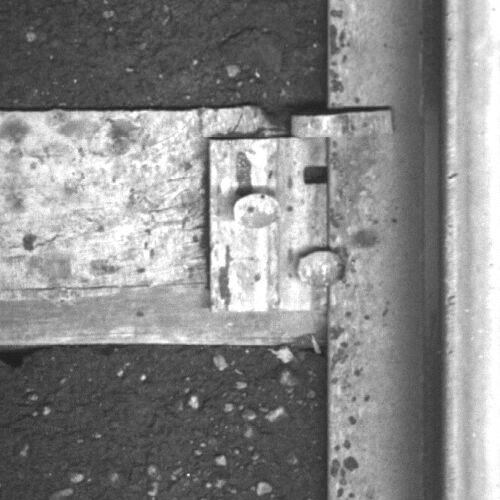crutch: (291, 105, 397, 138)
do: (208, 138, 346, 310)
hole_do: (296, 156, 340, 192)
rail: (441, 1, 500, 500)
tie_wood: (1, 110, 326, 344)
